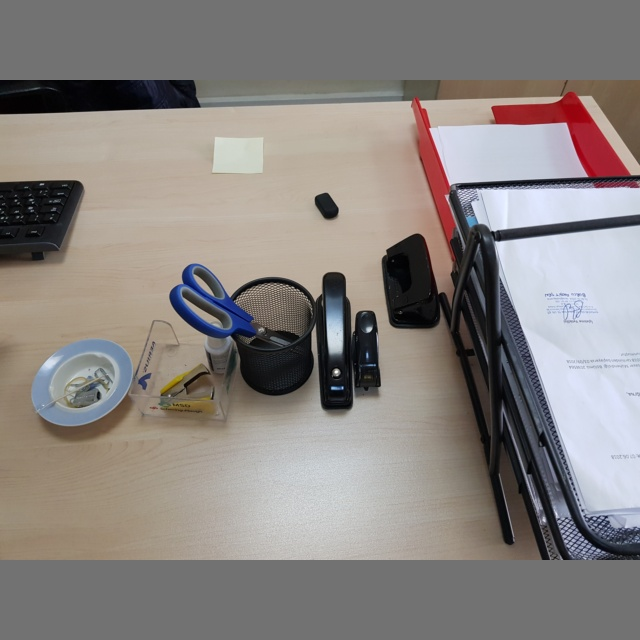scissor: (164, 260, 312, 354)
